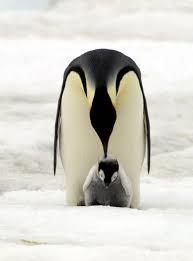emporer: (40, 43, 172, 216)
